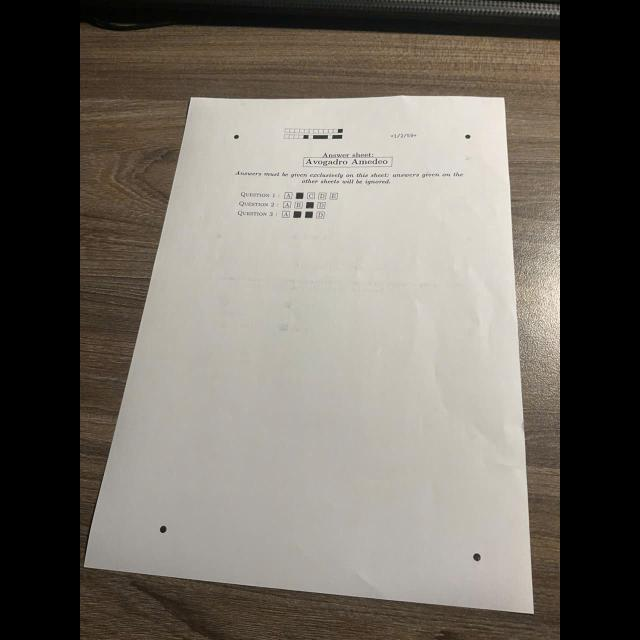Markers: (472, 553, 480, 561), (159, 525, 167, 533), (465, 134, 471, 138), (234, 134, 238, 138)
